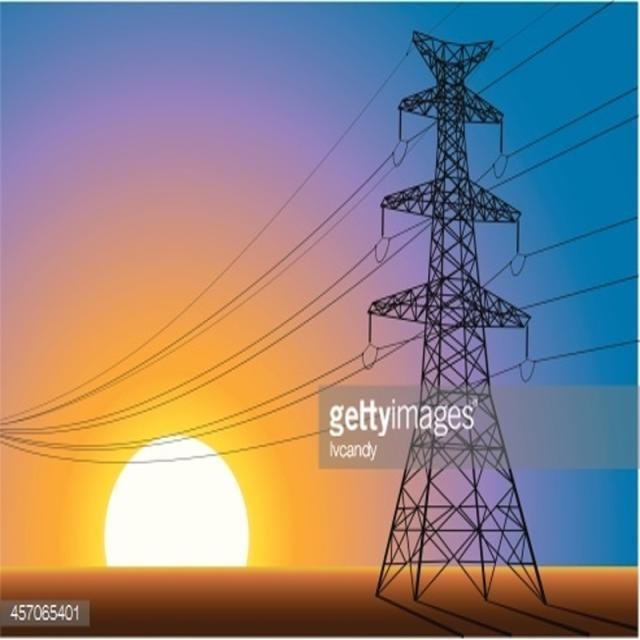non-critical vegetation: (366, 19, 561, 610)
